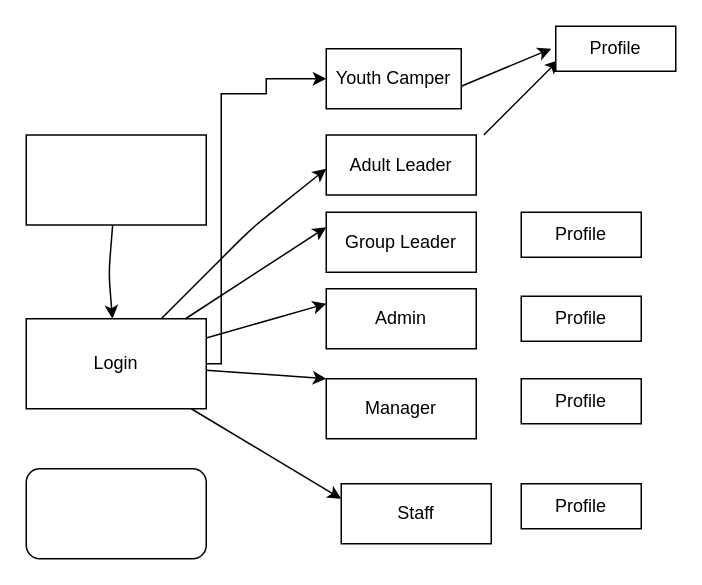
Some shapes in this 702 by 585 pixel diagram are drawn without their labels. Each missing label, with the box of its shape:
Logout: (25, 467, 206, 559)
Register: (25, 134, 206, 225)
